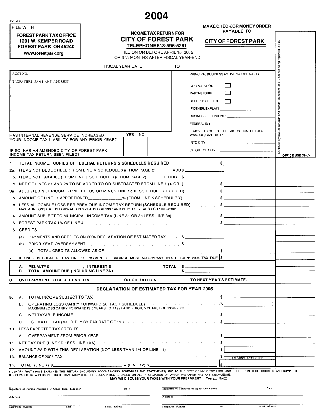checkbox: (122, 136, 137, 149), (134, 135, 149, 148), (134, 145, 150, 157), (122, 145, 137, 157), (224, 89, 232, 96), (223, 97, 231, 104), (223, 82, 232, 88), (212, 376, 218, 380), (222, 376, 228, 380)
textbox: (8, 69, 173, 133), (217, 358, 277, 368), (218, 252, 277, 262), (222, 344, 277, 354), (274, 176, 318, 187), (274, 183, 318, 194), (273, 226, 317, 237), (274, 243, 318, 254), (273, 288, 317, 299), (273, 156, 316, 167), (273, 162, 317, 172), (273, 169, 317, 179), (274, 191, 318, 201), (273, 233, 317, 243), (273, 251, 317, 261), (274, 258, 318, 268), (274, 262, 318, 272), (274, 275, 318, 285), (273, 298, 317, 308), (273, 307, 317, 317), (274, 329, 318, 339), (275, 336, 319, 346), (273, 343, 317, 353), (274, 359, 318, 369), (273, 197, 316, 207), (273, 208, 316, 218), (273, 216, 316, 226), (273, 314, 316, 324), (273, 348, 316, 358)
textline: (162, 390, 304, 396), (7, 390, 149, 396), (8, 381, 122, 388), (161, 381, 264, 388), (218, 399, 307, 405), (65, 400, 154, 406), (188, 77, 275, 83), (212, 137, 275, 145), (53, 360, 124, 367), (219, 119, 275, 127), (106, 245, 155, 254), (221, 246, 276, 254), (221, 211, 276, 219), (215, 146, 276, 153), (8, 399, 65, 406), (219, 105, 275, 112), (222, 218, 277, 225), (223, 159, 276, 166), (184, 231, 225, 240), (160, 399, 218, 405), (226, 112, 275, 119), (222, 201, 276, 207), (223, 194, 276, 200), (223, 188, 276, 194), (224, 182, 277, 188), (222, 292, 274, 298), (223, 319, 275, 325), (224, 332, 276, 338), (223, 338, 275, 344), (222, 351, 274, 357), (88, 192, 122, 201), (224, 301, 275, 307), (223, 310, 274, 316), (265, 381, 306, 388), (184, 173, 224, 180), (184, 239, 224, 246), (184, 166, 223, 173), (149, 363, 216, 367), (184, 263, 225, 269), (184, 267, 224, 273), (114, 263, 152, 269), (153, 276, 188, 282), (86, 277, 124, 282), (122, 381, 149, 388), (180, 63, 211, 69), (143, 63, 173, 69), (49, 264, 82, 269)
